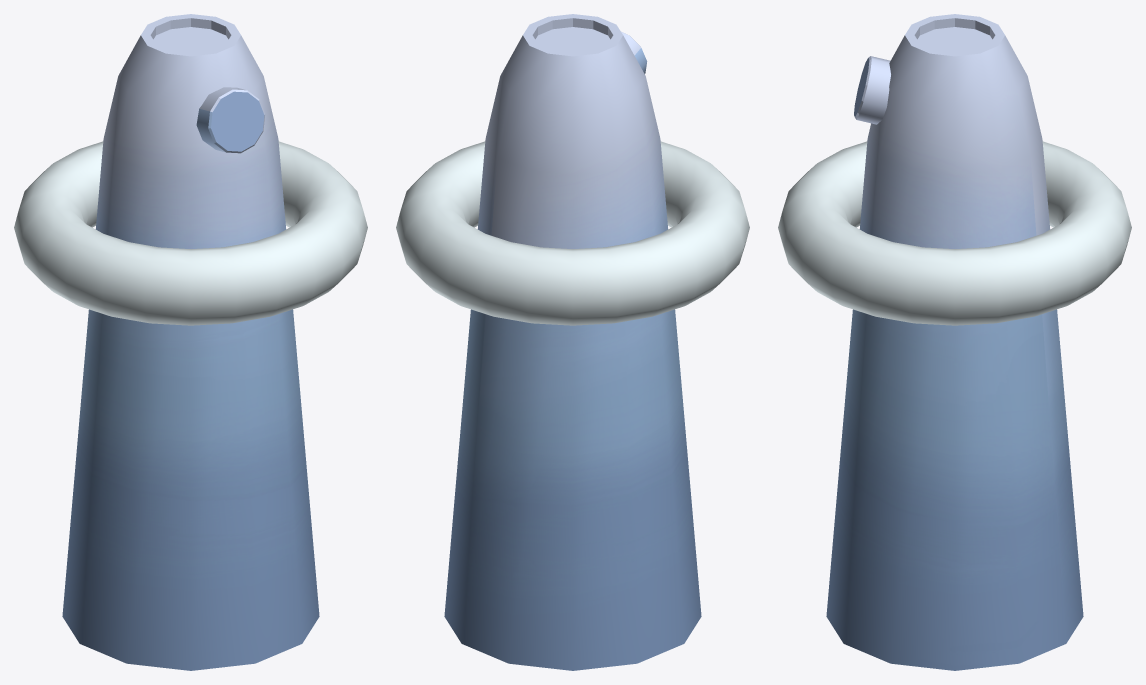
File: R_Column.FBX
The picture shows the model from 3 angles, left to right: view 1: azimuth 30°, elevation 25°; view 2: azimuth 150°, elevation 25°; view 3: azimuth 270°, elevation 25°; orthographic projection.
Parts seen in each view (by area): view 1: Column; view 2: Column; view 3: Column.
Part boxes in pixels (x1=…): Column: x1=14, y1=14, x2=367, y2=670; Column: x1=396, y1=14, x2=749, y2=670; Column: x1=778, y1=14, x2=1131, y2=670.
Bounding box in the file's own units: 6.44 × 11.67 × 6.44.
